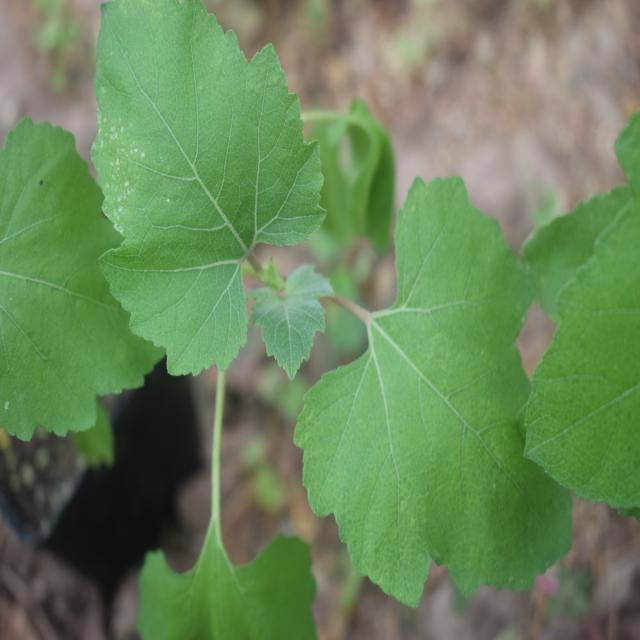cocklebur: (52, 10, 563, 614)
